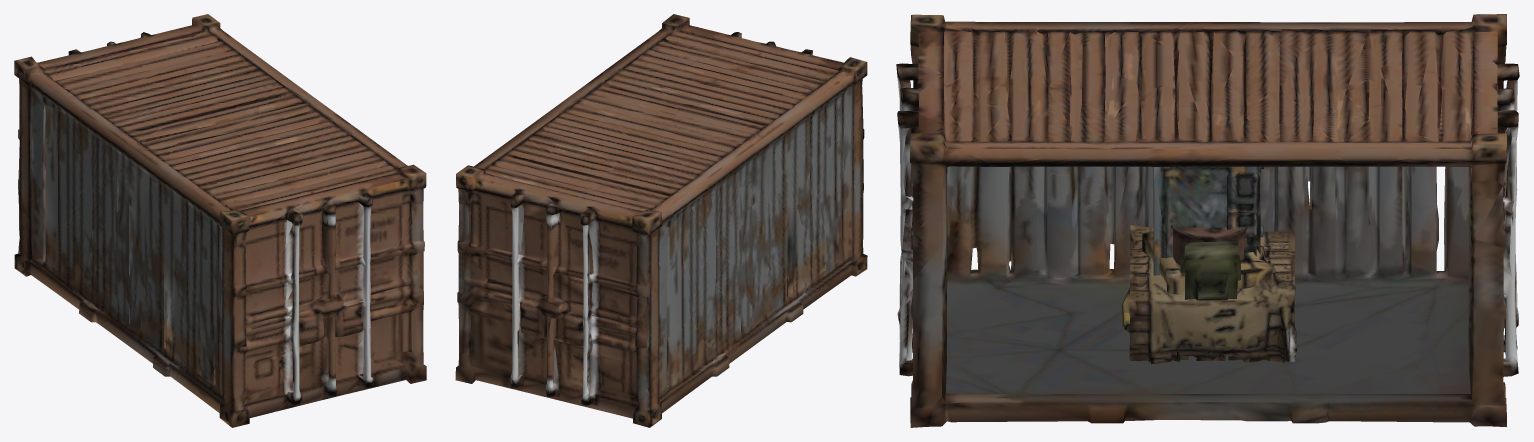
The model's file is shipping+container+3d+model.fbx.
3 views of the same model, side by side, from view 1: azimuth 30°, elevation 25°; view 2: azimuth 150°, elevation 25°; view 3: azimuth 270°, elevation 25° (orthographic). The views are drawn at different scales.
Parts seen in each view (by area): view 1: carg box; view 2: carg box; view 3: carg box, mesa, expendora machine, box2, box3, barril.
Part boxes in pixels (x1=…): carg box: x1=14, y1=14, x2=426, y2=427; carg box: x1=455, y1=14, x2=867, y2=427; carg box: x1=896, y1=14, x2=1519, y2=427; mesa: x1=1120, y1=225, x2=1296, y2=363; expendora machine: x1=1153, y1=166, x2=1263, y2=275; box2: x1=1148, y1=240, x2=1269, y2=362; box3: x1=1121, y1=231, x2=1273, y2=333; barril: x1=1170, y1=224, x2=1247, y2=265.
Size of the model in its own units: 39.27 by 39.98 by 78.65.
